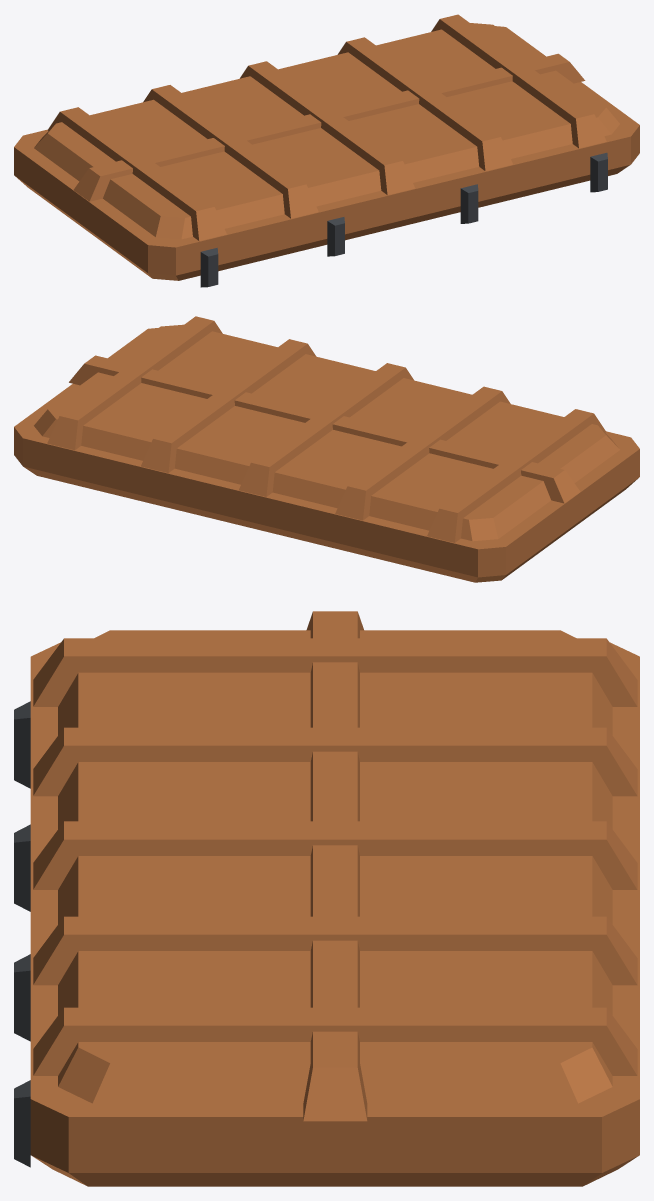
File: SM_Prop_Crate_Plastic_Lid_01.glb
The picture shows the model from 3 angles, top to bottom: view 1: azimuth 30°, elevation 25°; view 2: azimuth 150°, elevation 25°; view 3: azimuth 270°, elevation 25°; orthographic projection. The views are drawn at different scales.
Visible parts, largest first — view 1: SM_Prop_Crate_Plastic_Lid_01; view 2: SM_Prop_Crate_Plastic_Lid_01; view 3: SM_Prop_Crate_Plastic_Lid_01.
Part boxes in pixels (bbox=[...]): SM_Prop_Crate_Plastic_Lid_01: bbox=[14, 14, 639, 287]; SM_Prop_Crate_Plastic_Lid_01: bbox=[14, 316, 639, 582]; SM_Prop_Crate_Plastic_Lid_01: bbox=[14, 611, 639, 1186].
Size of the model in its own units: 1.46 by 0.1936 by 0.798.
1 material, 1 textured.
